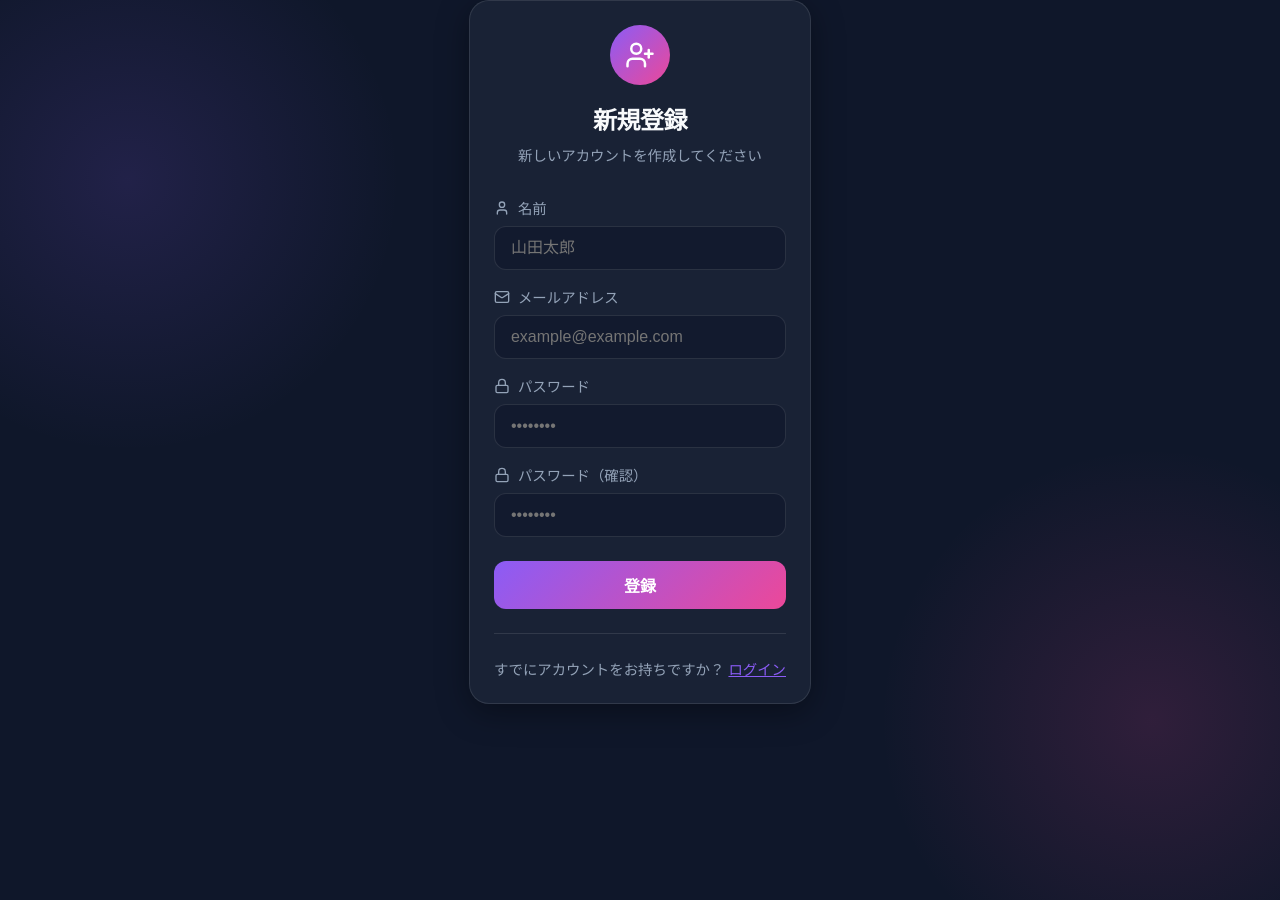
Test case: RegisterForm Component › パスワード不一致エラーを表示する
Type "テストユーザー" into the field with placeholder "山田太郎" at [640, 248], box [494,226,786,270]
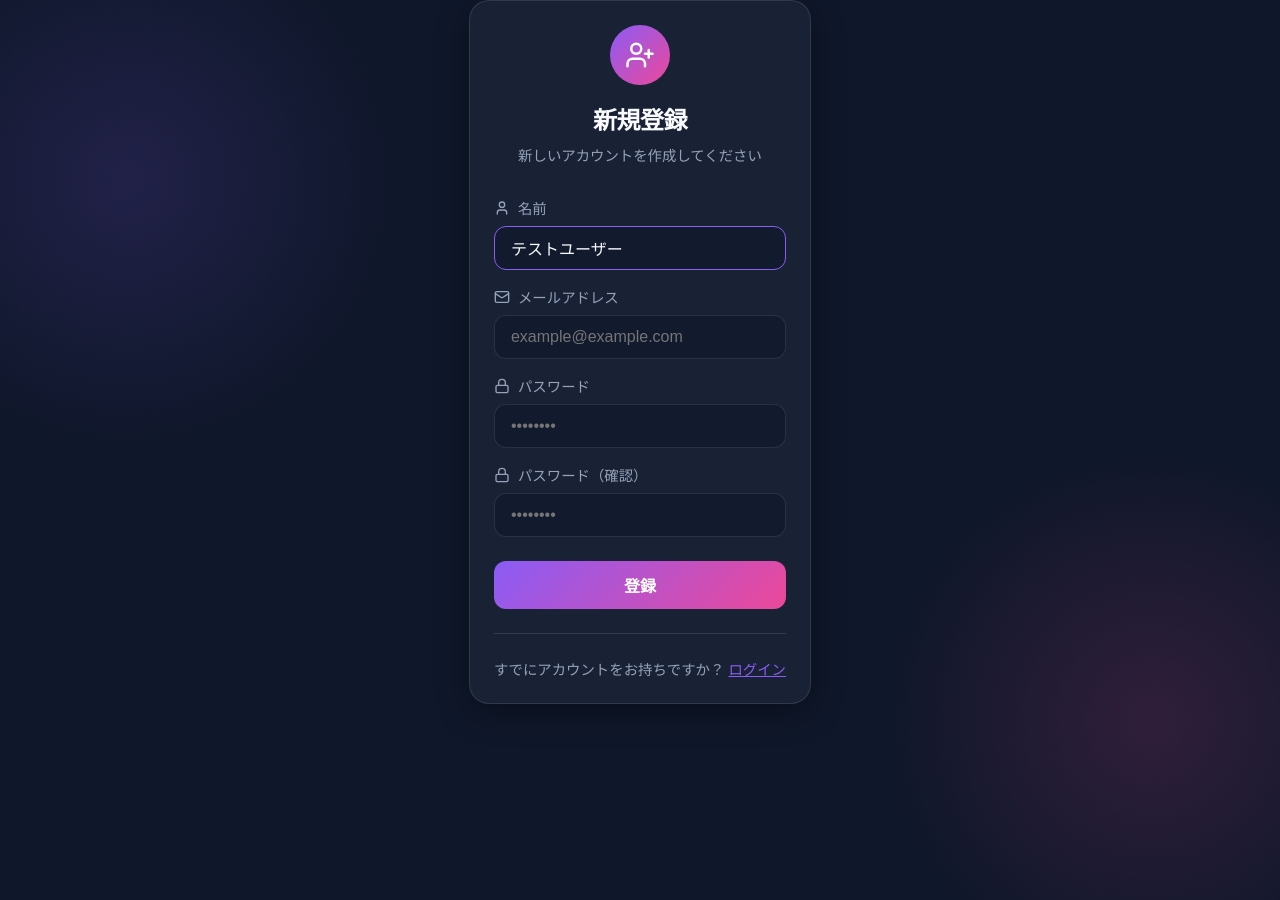
Type "test@example.com" into the field with placeholder "example@example.com" at [640, 337], box [494,315,786,359]
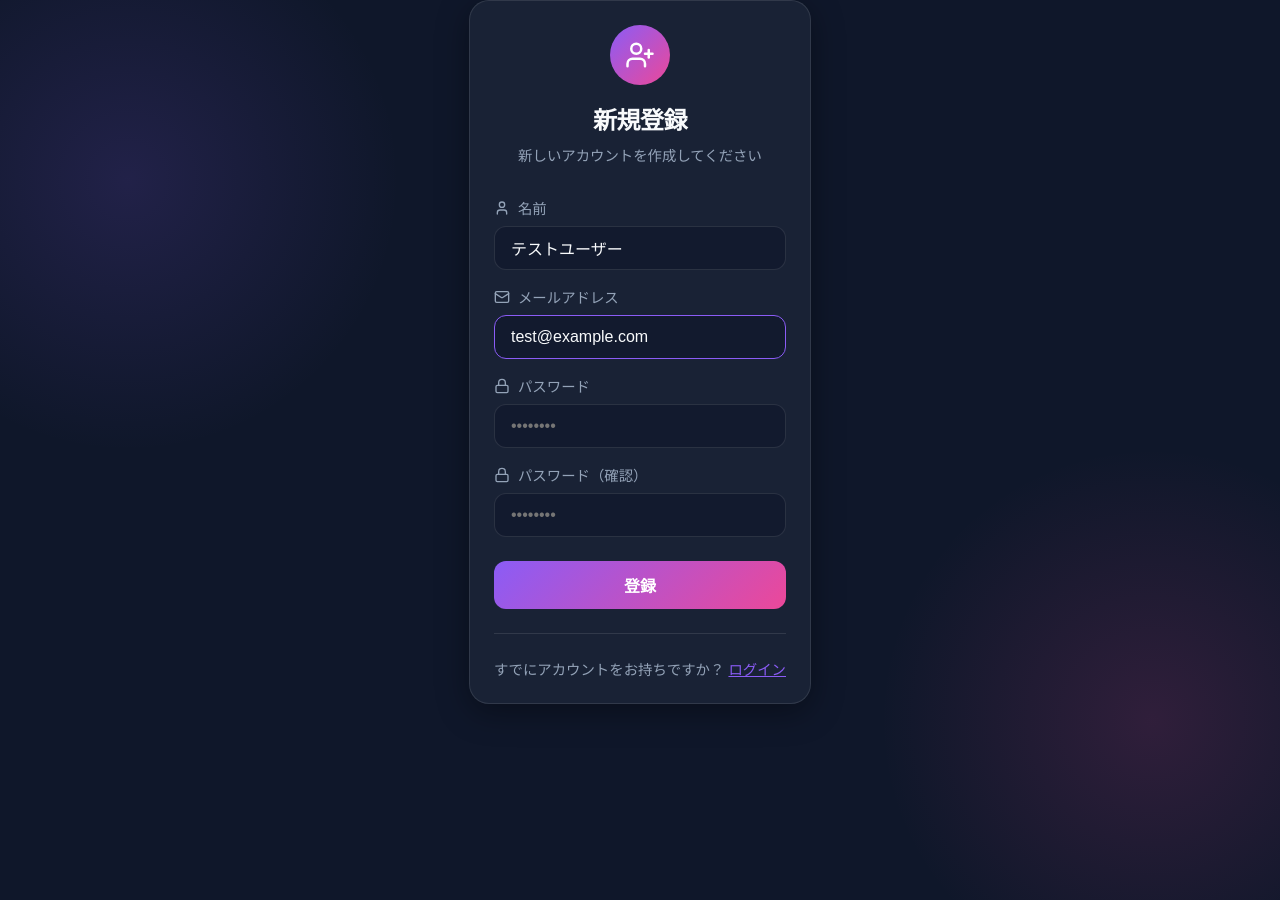
Type "password123" into the 1st password field with placeholder "••••••••" at [640, 426], box [494,404,786,448]
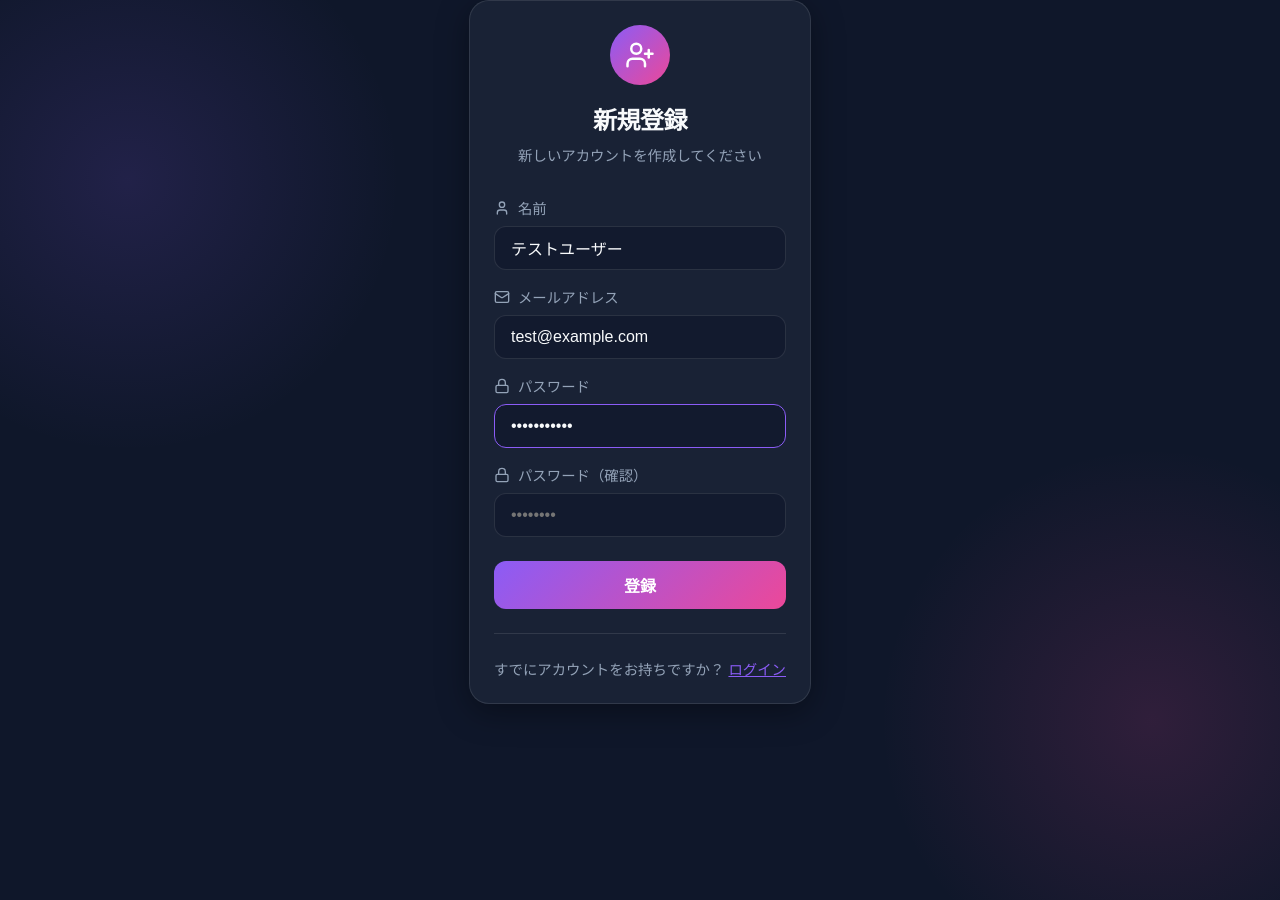
Type "differentpassword" into the password field with placeholder "••••••••" at [640, 515], box [494,493,786,537]
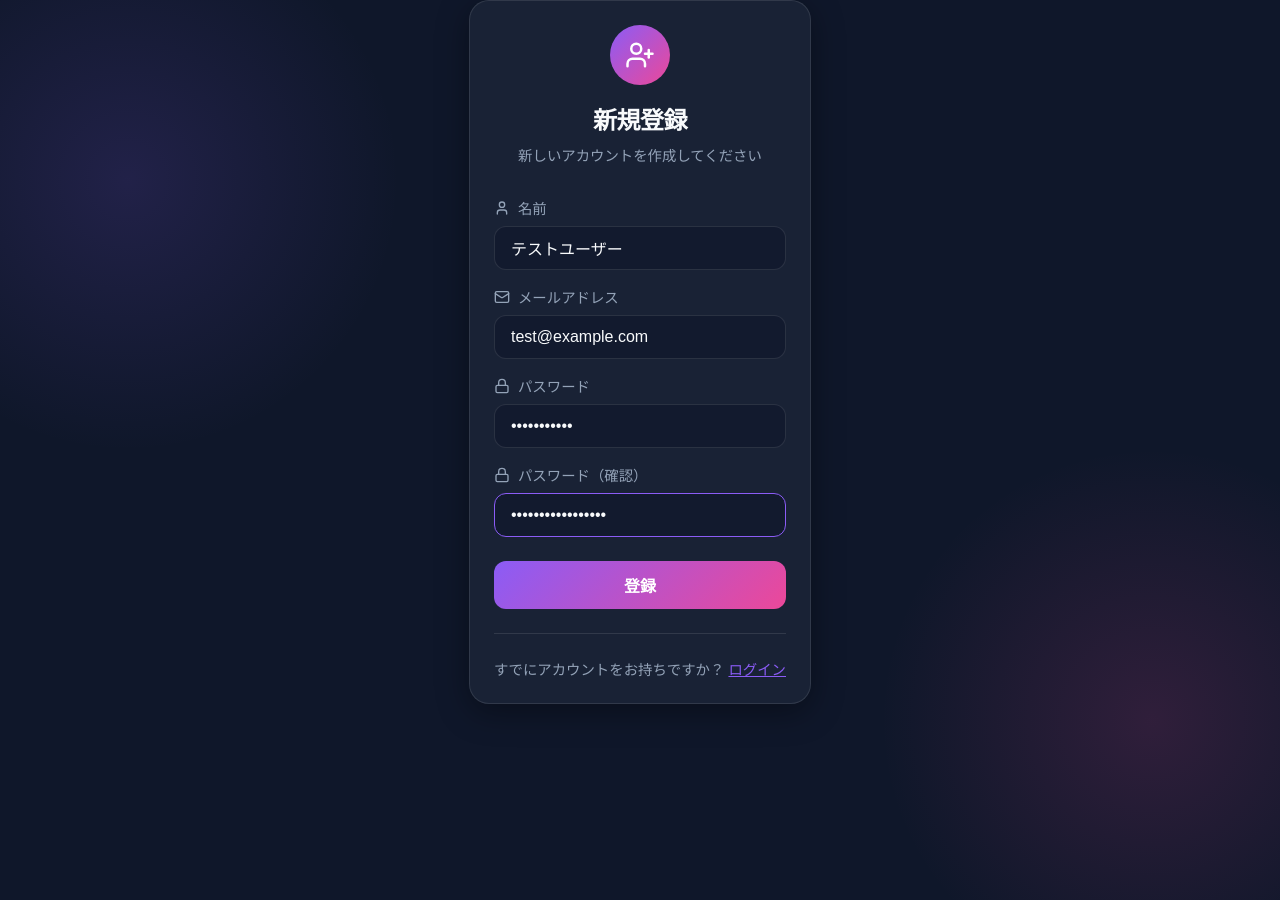
Click the button "登録" at [640, 585], box [494,561,786,609]
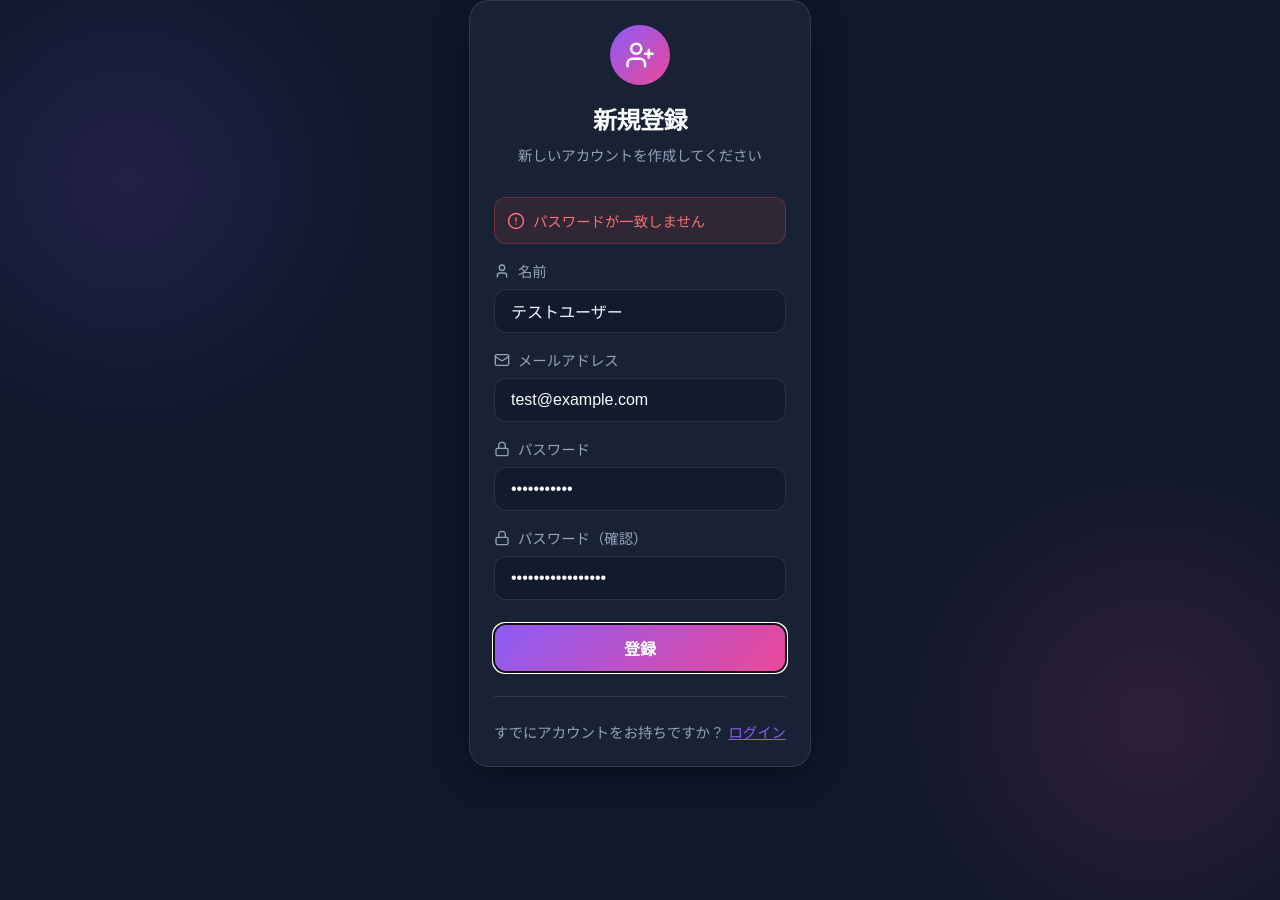
Check: the text "パスワードが一致しません" is shown, box [533,210,705,231]
